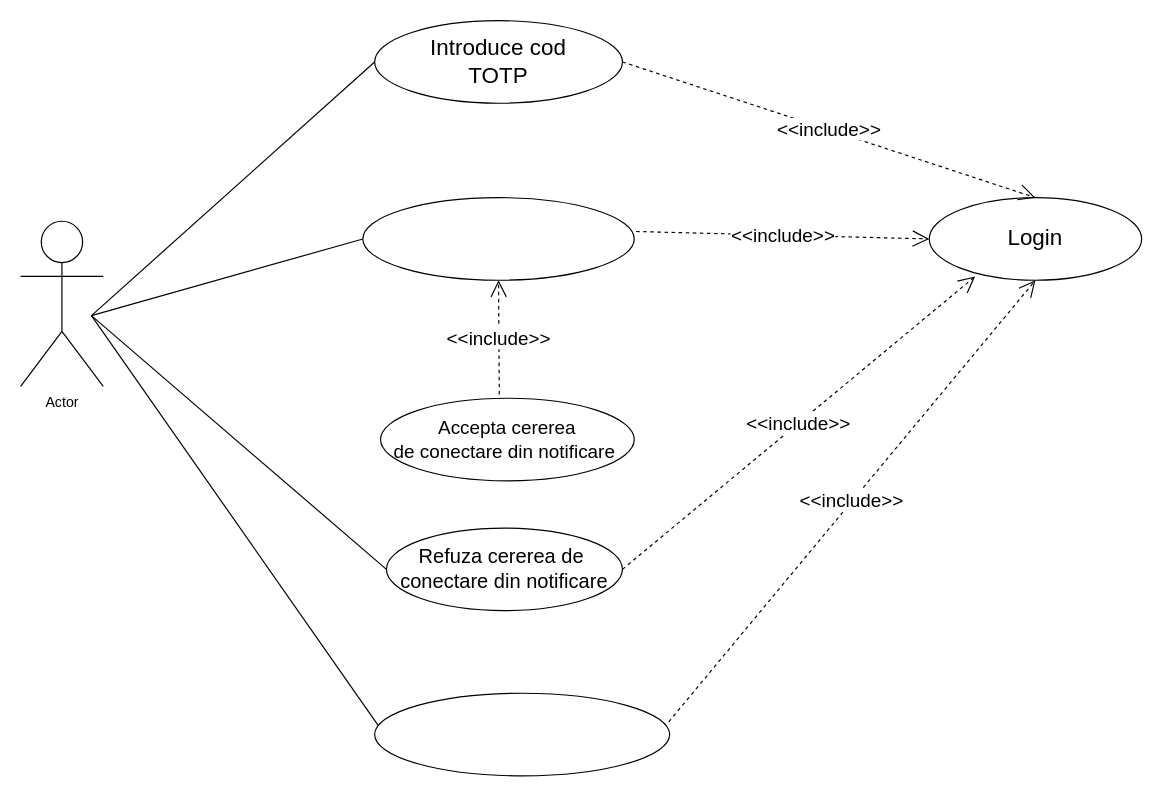
Some shapes in this 1162 by 796 pixel diagram are drawn without their labels. Here are the shapes that lost their labels. From the top down, the box of each, then its label:
(362, 196, 634, 280): Introduce codul afisat in notificare
(373, 692, 670, 776): Introduce token hardware in USB
